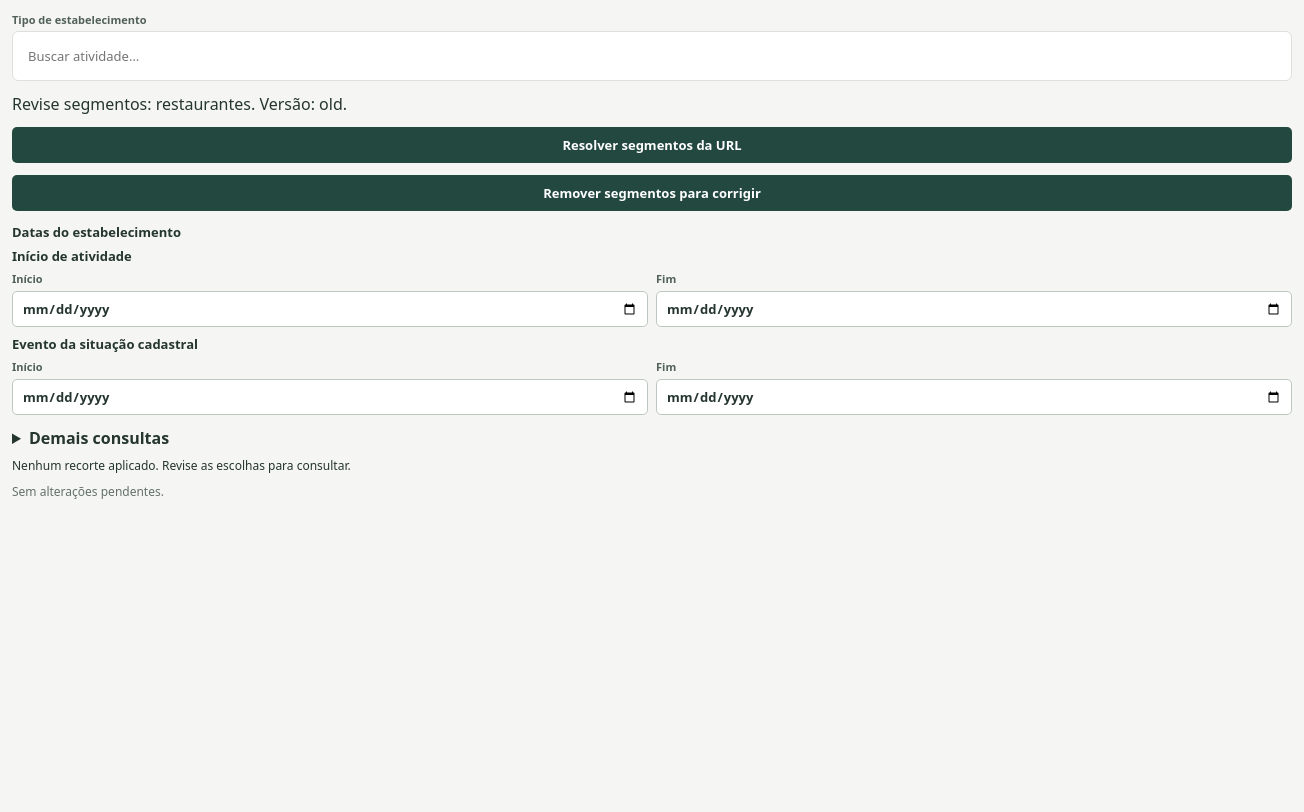
it: blocks unreviewable segments segmentos=restaurantes&catalog_version=old
Click the button "Resolver segmentos da URL": [652, 145] box [12,127,1292,163]
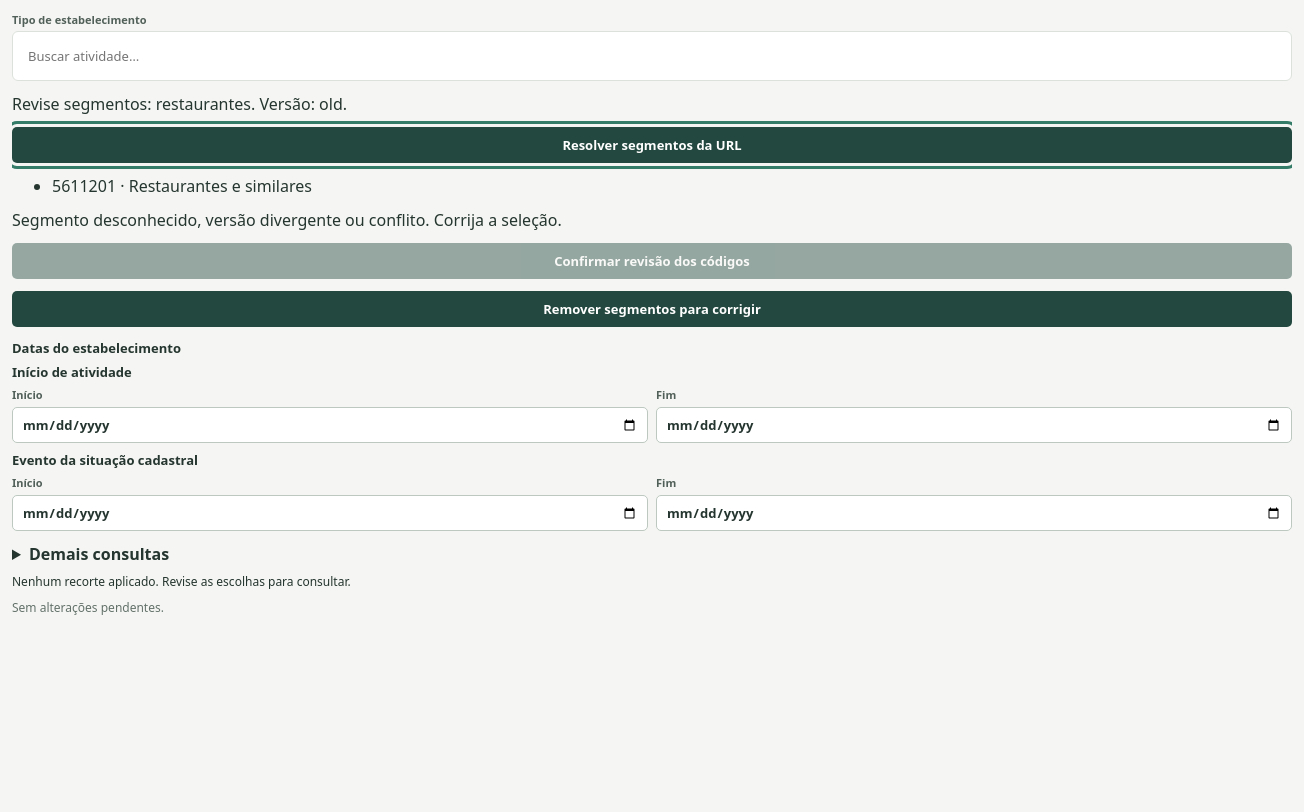
Expected: the button "Confirmar revisão dos códigos" is disabled, [12,243,1292,279]
Expected: the text "Segmento desconhecido, versão divergente ou conflito. Corrija a seleção." is shown, [12,209,562,231]
